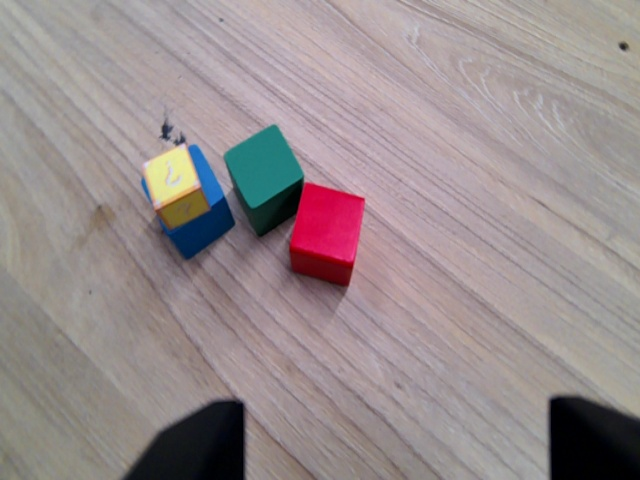lucky: (135, 141, 214, 232)
